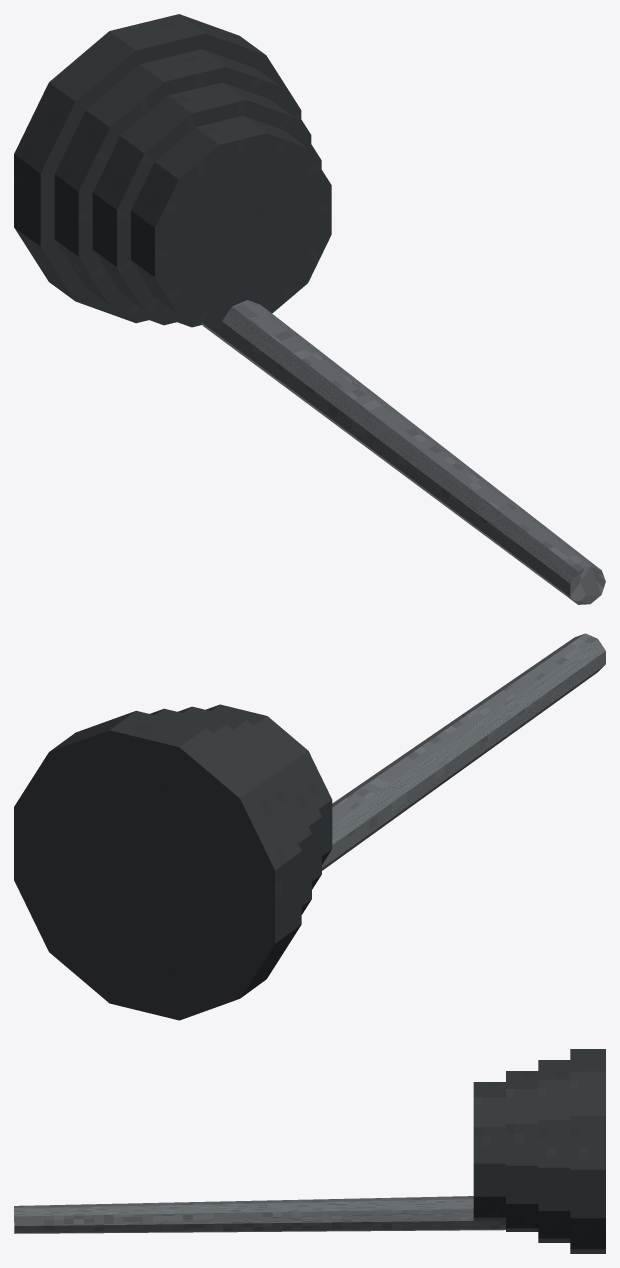
The model's file is plunger_futuristic.glb.
3 renders of one model, top to bottom at view 1: azimuth 30°, elevation 25°; view 2: azimuth 150°, elevation 25°; view 3: azimuth 270°, elevation 25°, orthographic. The views are drawn at different scales.
Parts seen in each view (by area): view 1: block_accordion rib (×4), block_handle; view 2: block_accordion rib (×4), block_handle; view 3: block_accordion rib (×4), block_handle.
Boxes of the visible parts, x1=… form: block_accordion rib (×4): x1=14, y1=14, x2=331, y2=329; block_handle: x1=201, y1=300, x2=605, y2=604; block_accordion rib (×4): x1=14, y1=704, x2=332, y2=1020; block_handle: x1=322, y1=633, x2=605, y2=870; block_accordion rib (×4): x1=473, y1=1049, x2=605, y2=1253; block_handle: x1=14, y1=1196, x2=505, y2=1233.
Bounding box in the file's own units: 0.2227 × 0.2227 × 0.656.
Materials: 1 (1 with a texture image).
